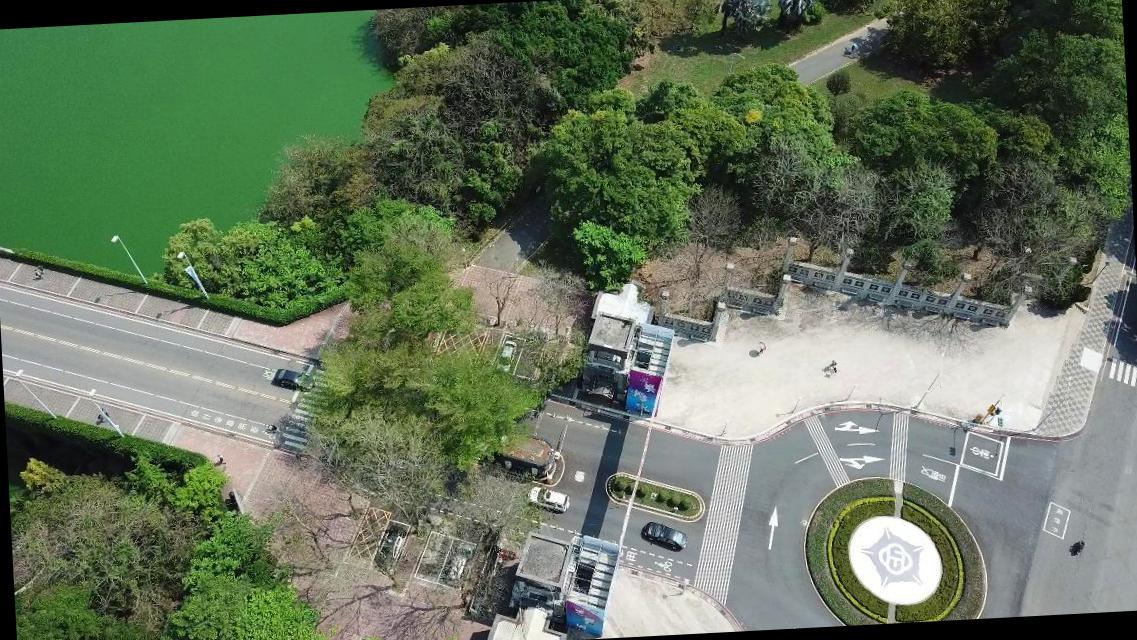vehicle: (372, 522, 408, 568), (443, 540, 474, 588), (642, 520, 687, 552), (271, 364, 316, 392), (525, 486, 570, 514), (495, 339, 518, 376)
